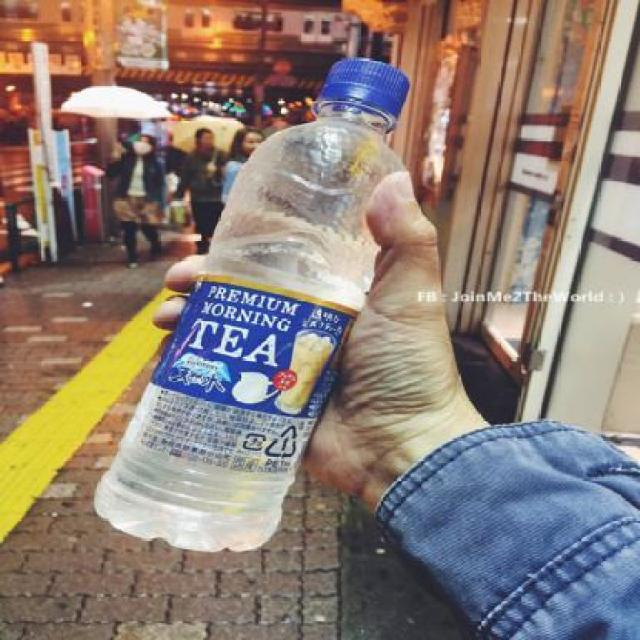bottle: (93, 37, 407, 573)
